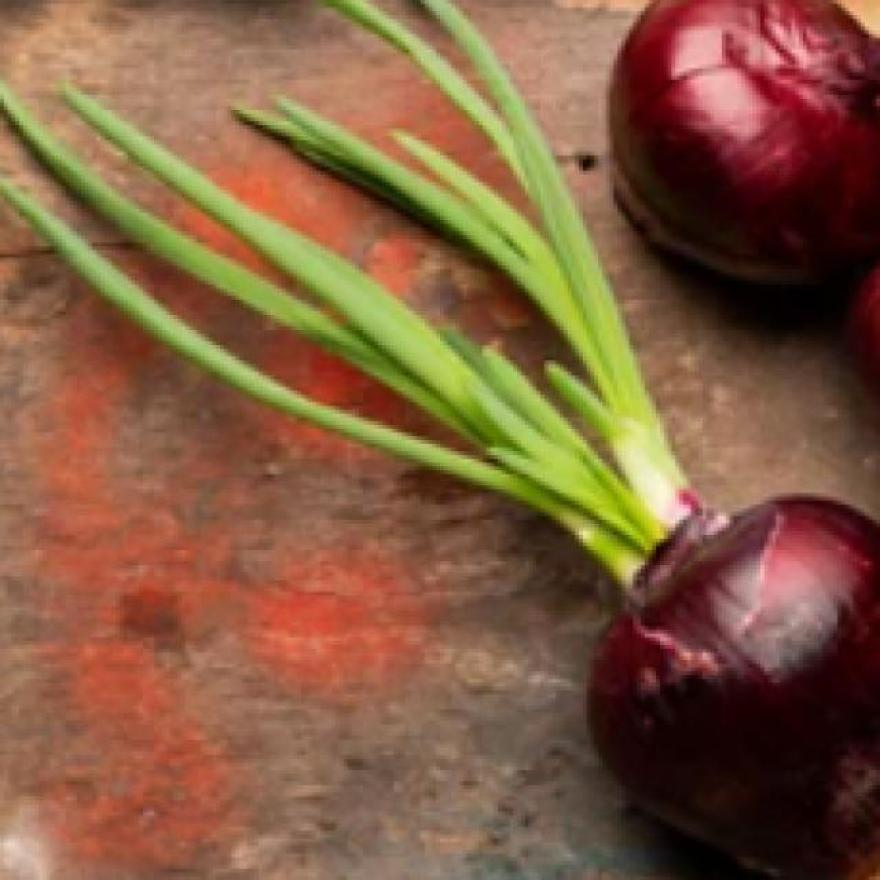Sprouted: (220, 193, 698, 566)
